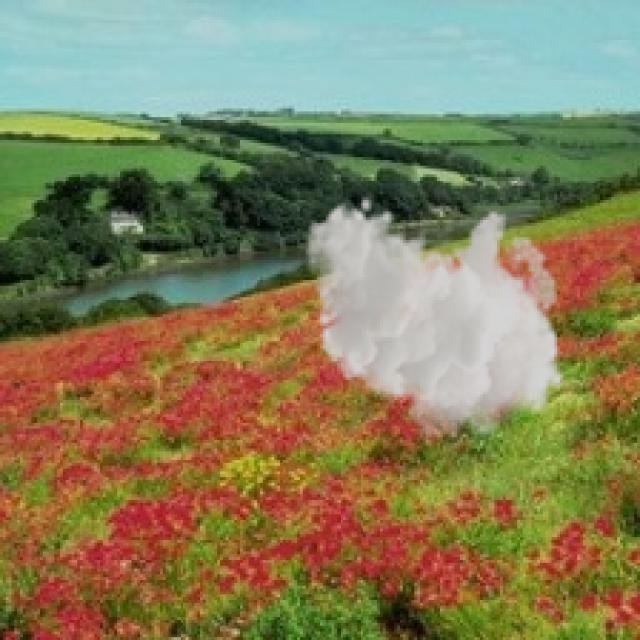smoke: (306, 194, 566, 449)
